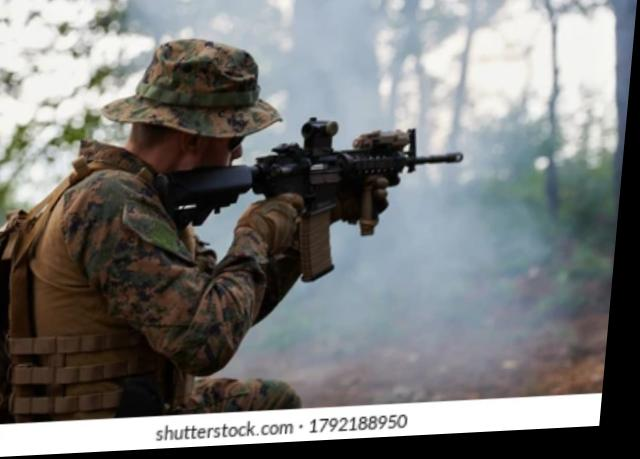other: (0, 44, 284, 409)
